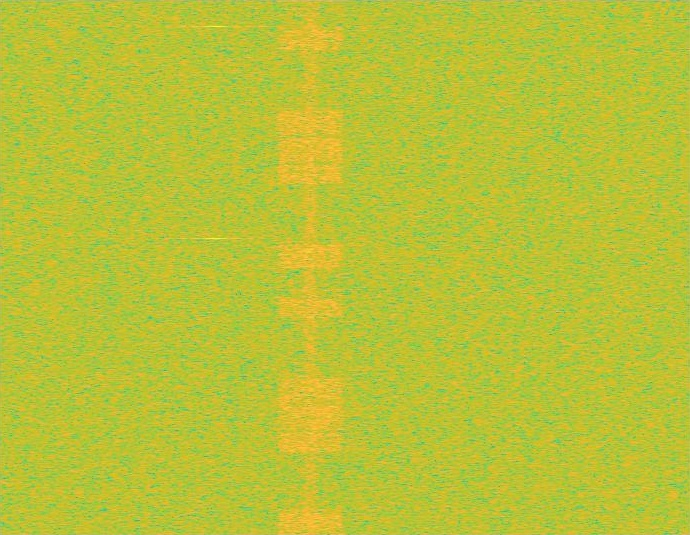DSSS: (303, 0, 318, 534)
LTE: (276, 0, 345, 534)
Radar: (209, 0, 223, 534)
